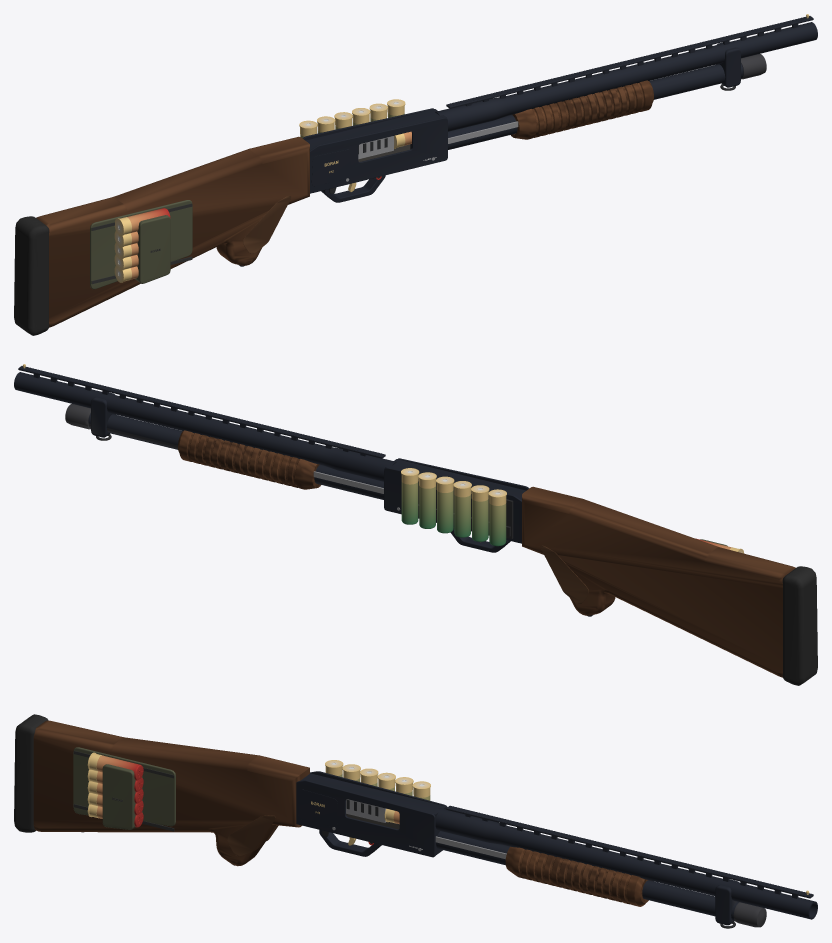
File: boran.glb
3 views of the same model, one above another, from view 1: azimuth 30°, elevation 25°; view 2: azimuth 150°, elevation 25°; view 3: azimuth 330°, elevation 25° (orthographic).
Parts seen in each view (by area): view 1: dipcik, namlu, govde, pompa; view 2: dipcik, namlu, govde, pompa; view 3: dipcik, namlu, govde, pompa.
Part boxes in pixels (x1=…): dipcik: x1=14, y1=136, x2=309, y2=335; namlu: x1=435, y1=14, x2=817, y2=149; govde: x1=299, y1=99, x2=447, y2=202; pompa: x1=511, y1=80, x2=653, y2=139; dipcik: x1=522, y1=486, x2=817, y2=685; namlu: x1=14, y1=364, x2=396, y2=499; govde: x1=384, y1=458, x2=529, y2=552; pompa: x1=178, y1=430, x2=320, y2=489; dipcik: x1=14, y1=714, x2=309, y2=866; namlu: x1=435, y1=805, x2=817, y2=928; govde: x1=296, y1=760, x2=447, y2=857; pompa: x1=505, y1=846, x2=648, y2=906.
Bounding box in the file's own units: 1.11 × 0.1685 × 0.0887.
